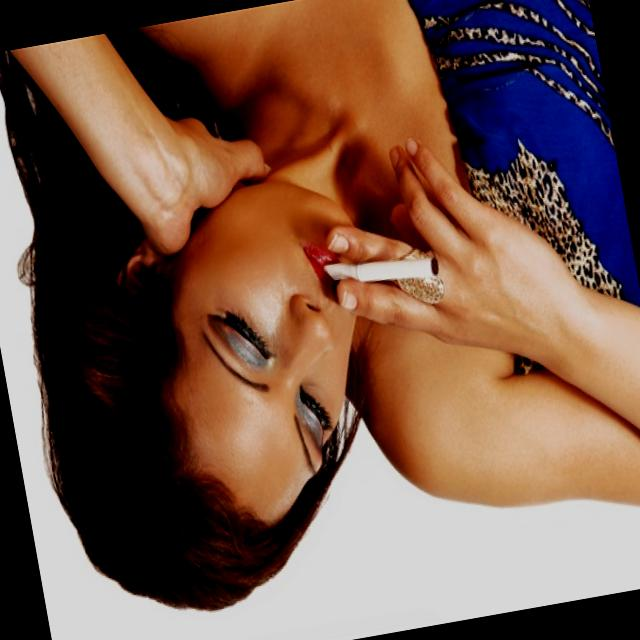cigarette: (320, 236, 442, 304)
